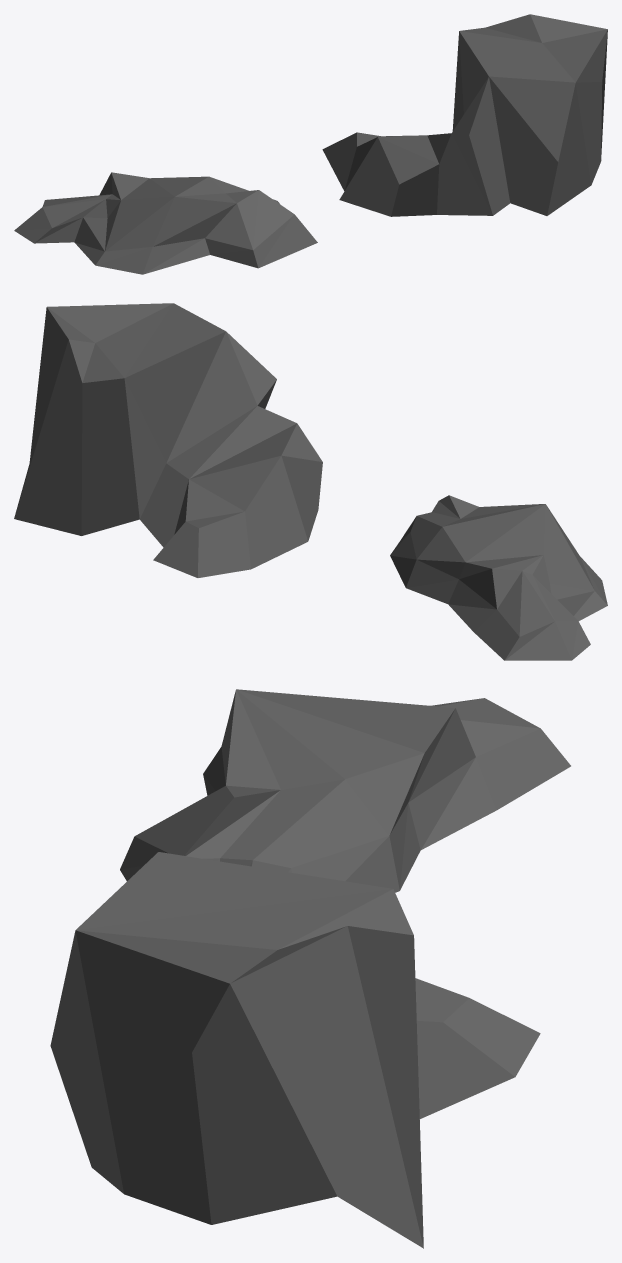
Rendered from MiddleStones.FBX.
The picture shows the model from 3 angles, top to bottom: view 1: azimuth 30°, elevation 25°; view 2: azimuth 150°, elevation 25°; view 3: azimuth 270°, elevation 25°; orthographic projection. The views are drawn at different scales.
Visible parts, largest first — view 1: Plane.007, Object005; view 2: Plane.007, Object005; view 3: Plane.007, Object005.
Boxes of the visible parts, <box> form: Plane.007: <box>322,14,607,216</box>; Object005: <box>14,172,317,274</box>; Plane.007: <box>14,303,322,577</box>; Object005: <box>390,495,607,660</box>; Plane.007: <box>50,852,540,1248</box>; Object005: <box>120,689,570,892</box>.
Size of the model in its own units: 1074 by 302 by 463.
Materials: 1 (1 with a texture image).
